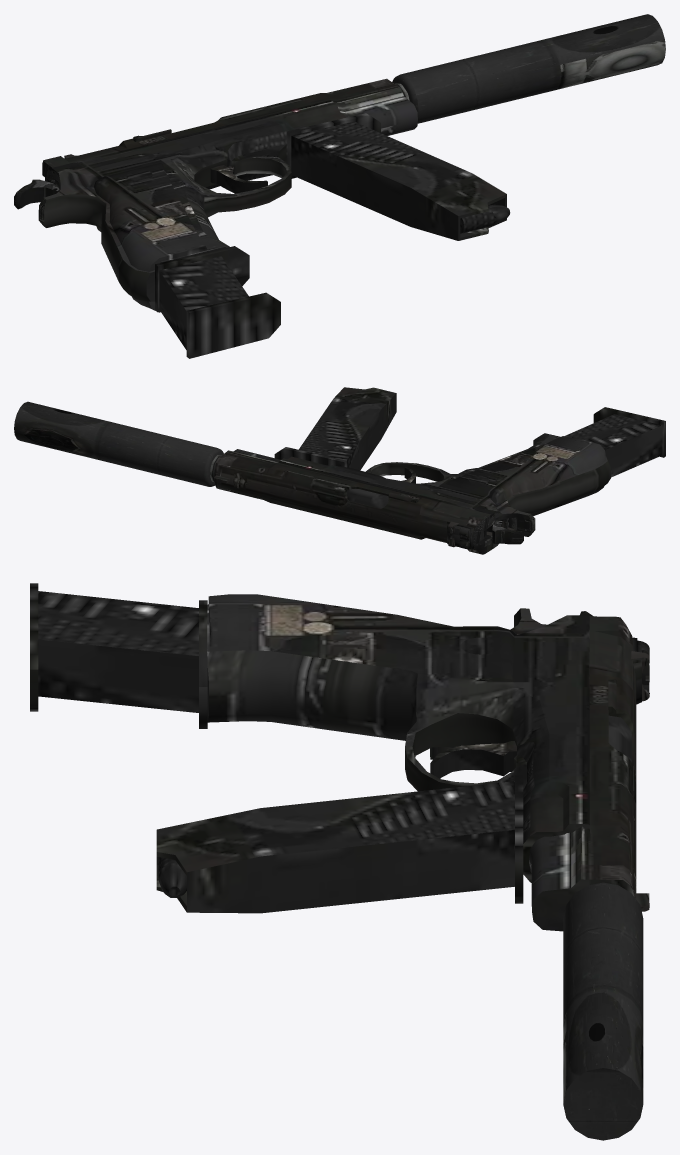
The model's file is t5_weapon_viewmodel_cz75.glb.
The picture shows the model from 3 angles, top to bottom: view 1: azimuth 30°, elevation 25°; view 2: azimuth 150°, elevation 25°; view 3: azimuth 270°, elevation 25°; orthographic projection. The views are drawn at different scales.
Parts seen in each view (by area): view 1: t5_weapon_viewmodel_cz75; view 2: t5_weapon_viewmodel_cz75; view 3: t5_weapon_viewmodel_cz75.
Part boxes in pixels (x1,y1,x2,y2): t5_weapon_viewmodel_cz75: [14, 14, 665, 358]; t5_weapon_viewmodel_cz75: [14, 387, 665, 554]; t5_weapon_viewmodel_cz75: [30, 583, 649, 1140].
Bounding box in the file's own units: 0.3536 × 0.0324 × 0.1903.
Materials: 2 (2 with a texture image).
